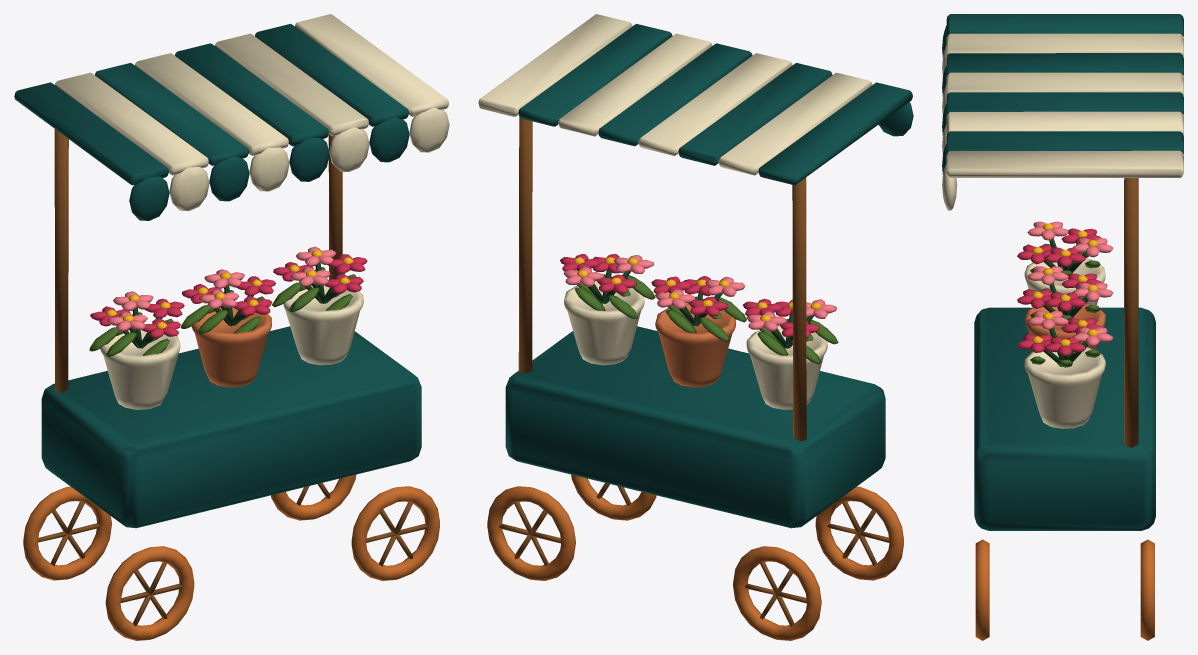
Rendered from Decor_FlowerCart.glb.
3 renders of one model, left to right at view 1: azimuth 30°, elevation 25°; view 2: azimuth 150°, elevation 25°; view 3: azimuth 270°, elevation 25°, orthographic.
Visible parts, largest first — view 1: Decor_FlowerCart.001; view 2: Decor_FlowerCart.001; view 3: Decor_FlowerCart.001.
Boxes of the visible parts, left/top/right/bottom form: Decor_FlowerCart.001: left=14, top=14, right=449, bottom=640; Decor_FlowerCart.001: left=478, top=14, right=913, bottom=640; Decor_FlowerCart.001: left=942, top=14, right=1183, bottom=640.
Size of the model in its own units: 1.17 by 1.62 by 0.7323.
Materials: 1 (1 with a texture image).
